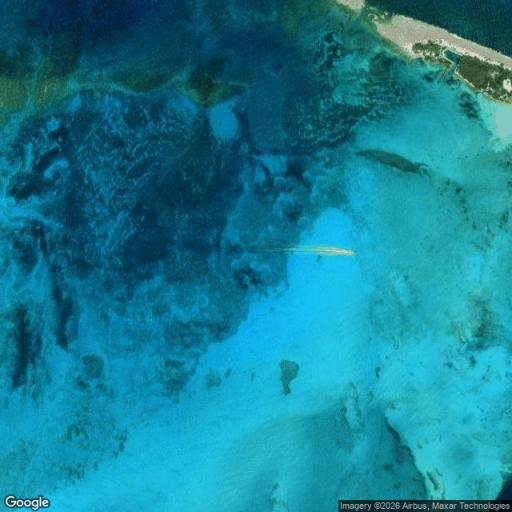ship: (270, 247, 352, 256)
